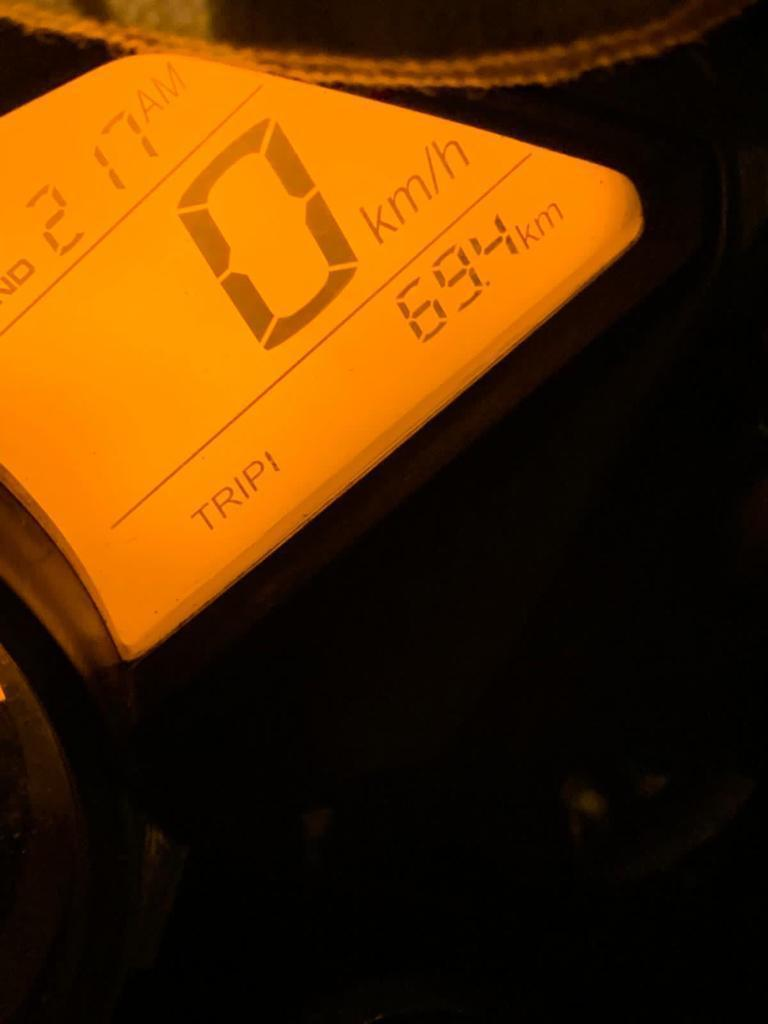,: (482, 278, 492, 292)
0: (176, 117, 359, 351)
1: (90, 145, 125, 194), (263, 450, 279, 472)
2: (23, 183, 83, 256)
4: (469, 213, 518, 263)
6: (395, 276, 447, 344)
7: (100, 108, 157, 159)
9: (430, 244, 482, 311)
X: (386, 173, 431, 225), (431, 136, 468, 180), (359, 203, 397, 244), (151, 62, 184, 103), (534, 201, 564, 237), (212, 486, 241, 519), (423, 144, 440, 196), (135, 89, 161, 122), (190, 502, 213, 533), (7, 258, 34, 284), (242, 459, 263, 491), (516, 222, 539, 251), (233, 476, 249, 500), (0, 278, 15, 303)
odometer: (0, 33, 662, 684)
